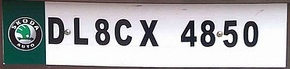character: (138, 17, 158, 48), (46, 14, 65, 44), (114, 18, 133, 46), (73, 15, 89, 46), (180, 19, 197, 48), (223, 17, 238, 47), (94, 17, 110, 45), (200, 19, 216, 47), (242, 19, 258, 47)
